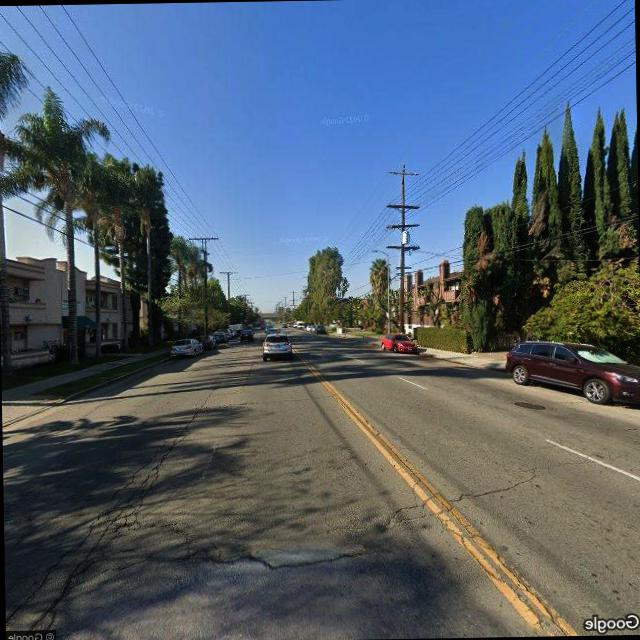crack: (358, 407, 564, 635), (21, 393, 218, 625), (216, 458, 558, 576)
